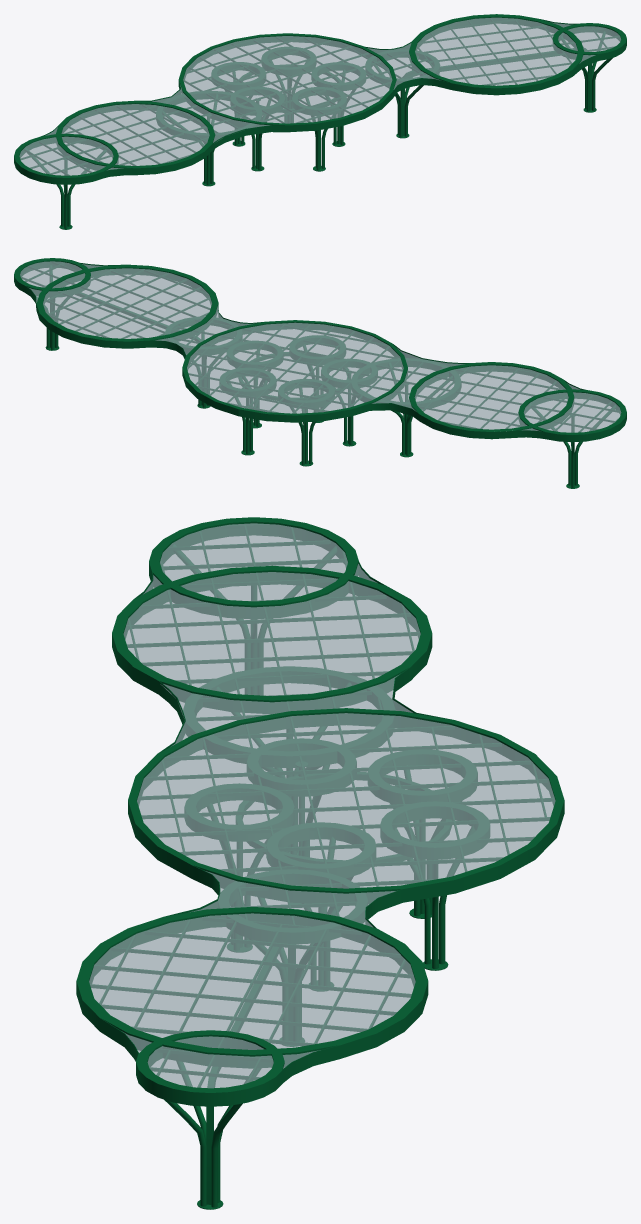
3 views of the same model, one above another, from view 1: azimuth 30°, elevation 25°; view 2: azimuth 150°, elevation 25°; view 3: azimuth 270°, elevation 25° (orthographic). The views are drawn at different scales.
Parts seen in each view (by area): view 1: SM_220; view 2: SM_220; view 3: SM_220.
Part boxes in pixels (box(x1,y1,x2,y2)): SM_220: box(14, 14, 626, 229); SM_220: box(14, 258, 626, 488); SM_220: box(76, 517, 564, 1209).
Bounding box in the file's own units: 31.1 × 3.59 × 11.14.
